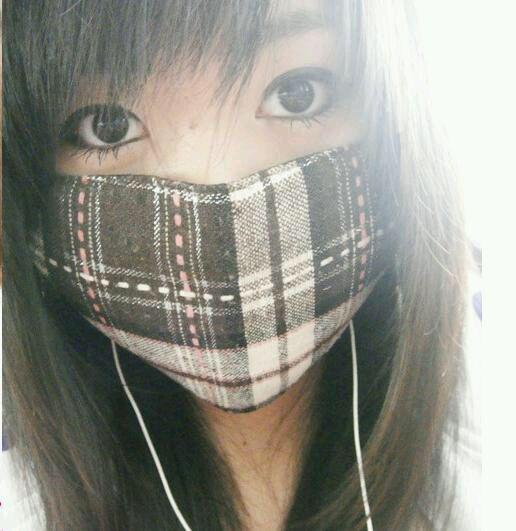OK: (29, 40, 387, 398)
